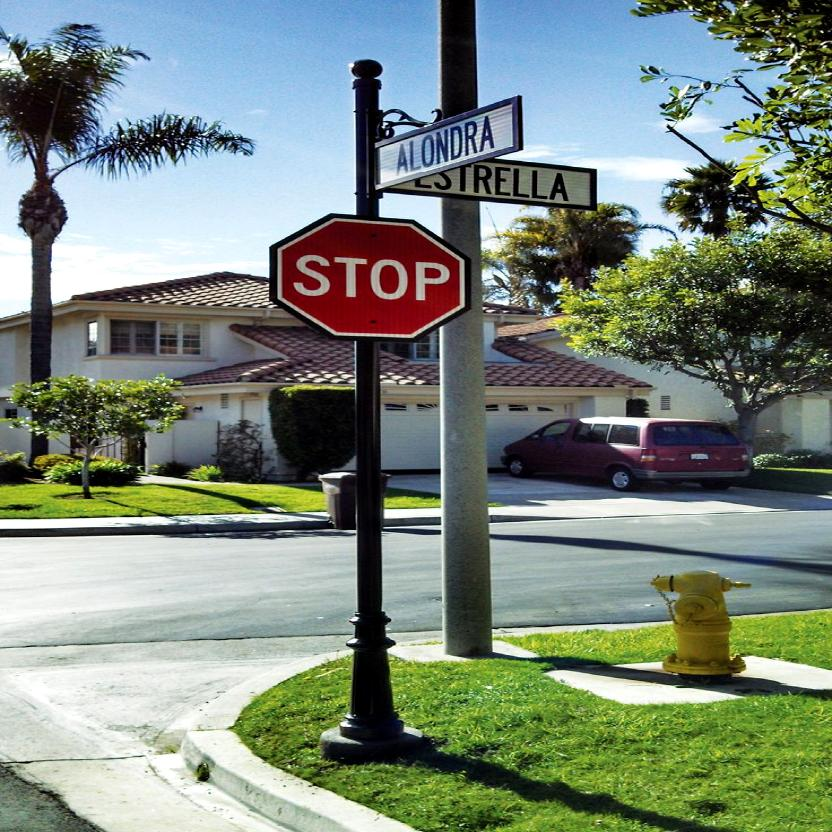Pole: (356, 342, 387, 754)
Sign: (269, 218, 472, 338)
